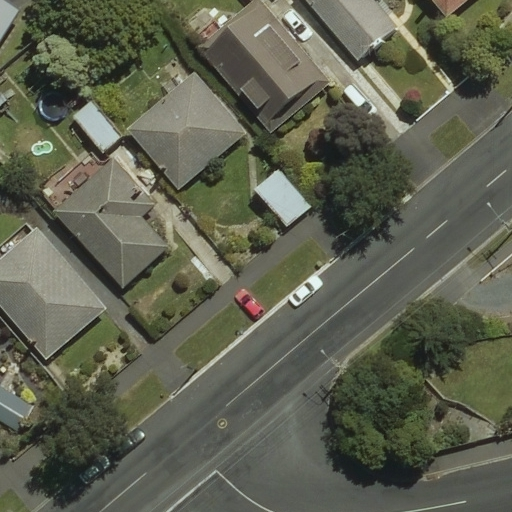DT: (476, 196, 512, 241), (314, 342, 350, 381)
